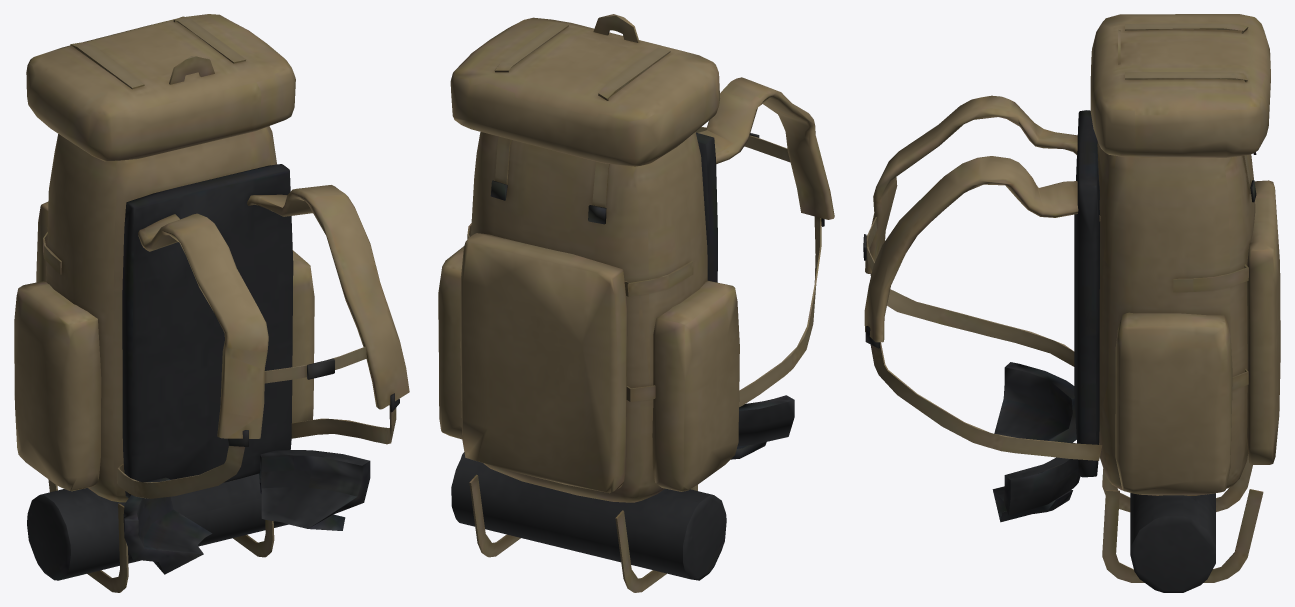
File: backpack_3_lod1.glb
3 views of the same model, side by side, from view 1: azimuth 30°, elevation 25°; view 2: azimuth 150°, elevation 25°; view 3: azimuth 270°, elevation 25° (orthographic).
Parts seen in each view (by area): view 1: body; view 2: body; view 3: body.
Part boxes in pixels (x1=…): body: x1=14, y1=14, x2=409, y2=592; body: x1=438, y1=14, x2=834, y2=592; body: x1=863, y1=14, x2=1280, y2=592.
Bounding box in the file's own units: 0.466 × 0.8911 × 0.654.
Materials: 1 (1 with a texture image).
